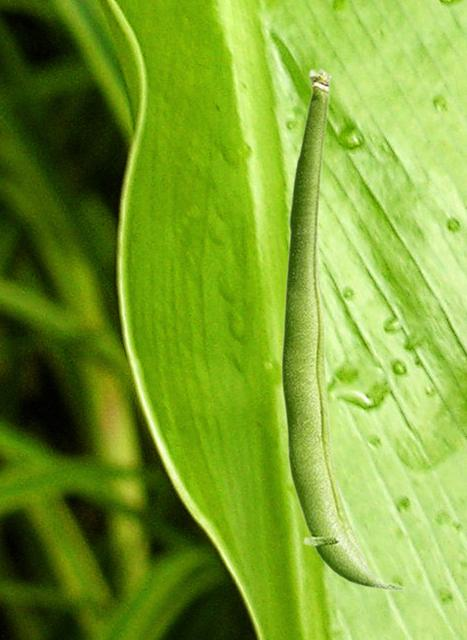french_bean: (280, 68, 406, 590)
